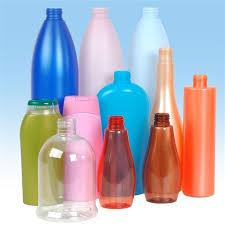Container for household chemicals: (56, 37, 195, 141), (43, 122, 94, 225), (15, 99, 69, 191), (28, 3, 75, 102), (76, 10, 127, 98), (183, 75, 217, 197), (97, 119, 142, 209), (134, 4, 184, 79), (147, 113, 184, 208)
